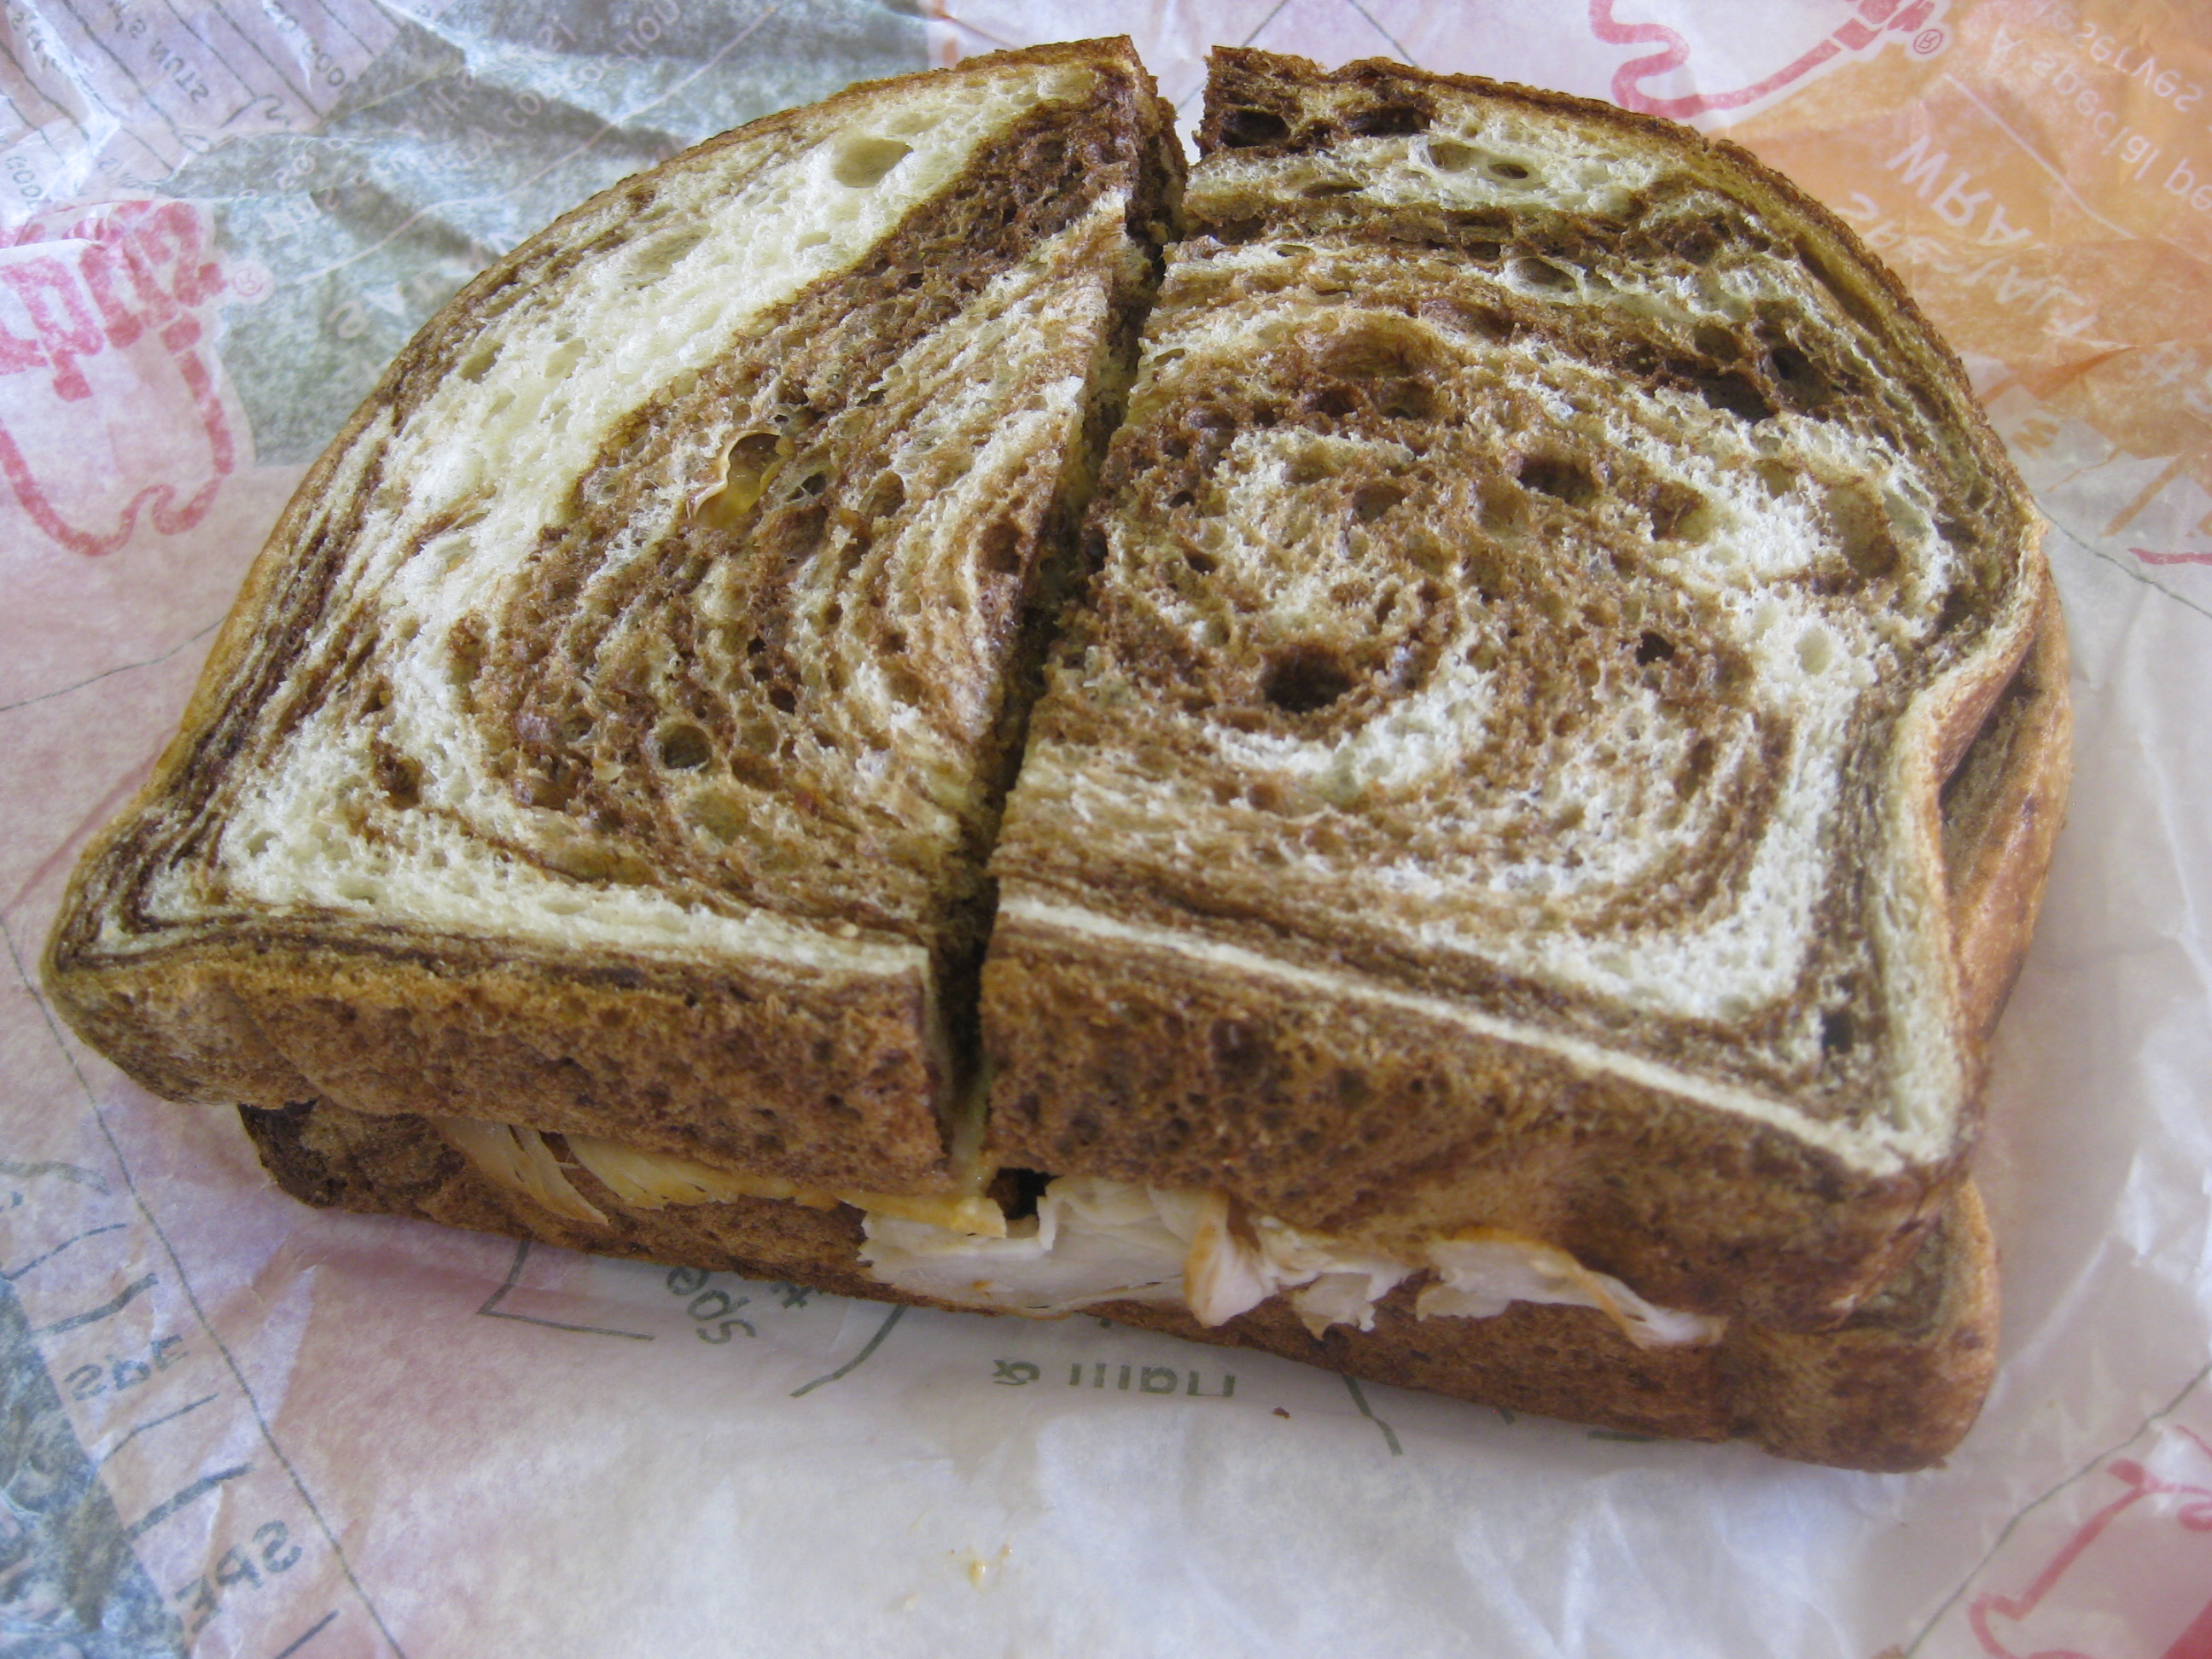sandwich: (33, 16, 2097, 1516)
